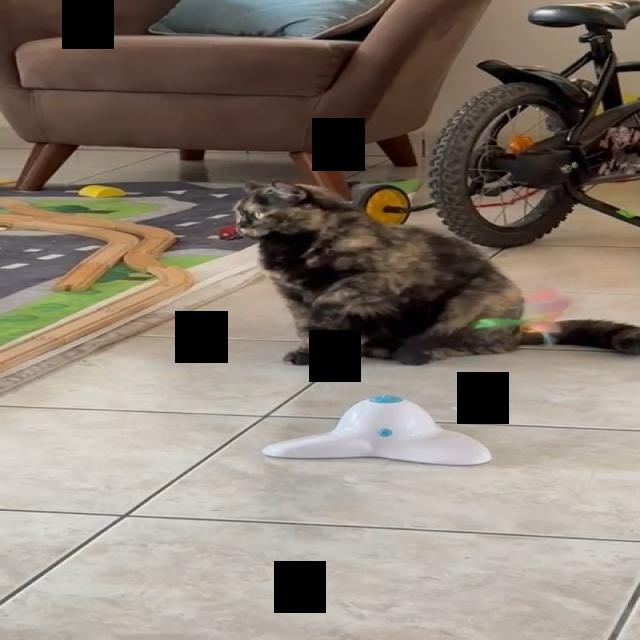authorized: (231, 178, 638, 366)
